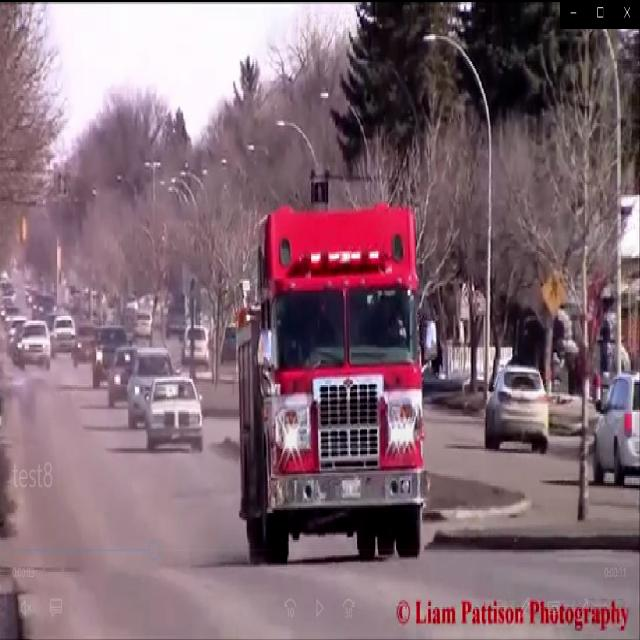emergency: (230, 190, 444, 572)
